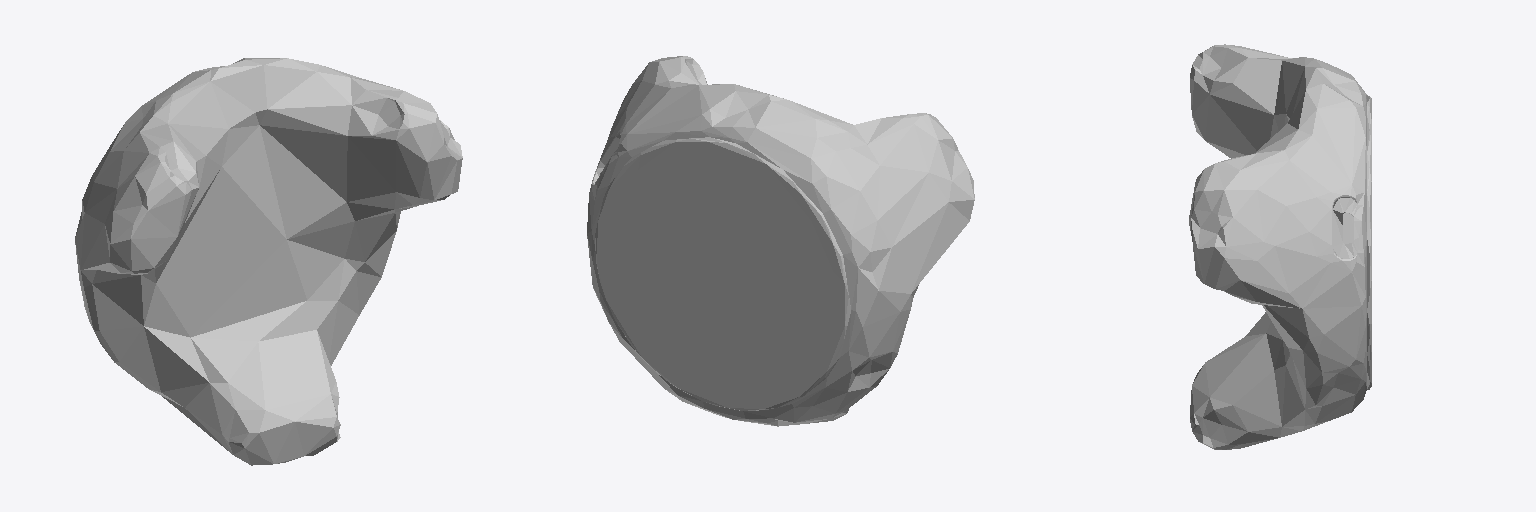
File: PBR - Metallic Roughness.obj
3 renders of one model, left to right at view 1: azimuth 30°, elevation 25°; view 2: azimuth 150°, elevation 25°; view 3: azimuth 270°, elevation 25°, orthographic.
Parts seen in each view (by area): view 1: Tracker__Tracker_; view 2: Tracker__Tracker_; view 3: Tracker__Tracker_.
Boxes of the visible parts, box(x1,y1,x2,y2) form: Tracker__Tracker_: box(75, 58, 462, 465); Tracker__Tracker_: box(587, 56, 974, 426); Tracker__Tracker_: box(1189, 44, 1371, 449).
Size of the model in its own units: 90.41 by 87.81 by 40.66.